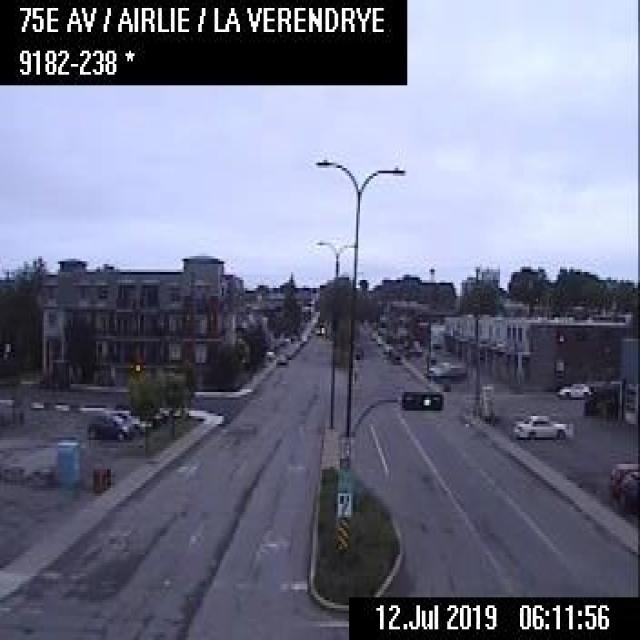construction: (91, 466, 101, 490), (105, 465, 112, 487), (100, 466, 106, 488)
vehicle: (511, 409, 568, 440), (86, 410, 128, 440), (113, 408, 148, 434), (609, 459, 638, 490), (425, 357, 467, 378), (553, 376, 589, 397), (389, 348, 403, 363), (274, 352, 286, 363)
